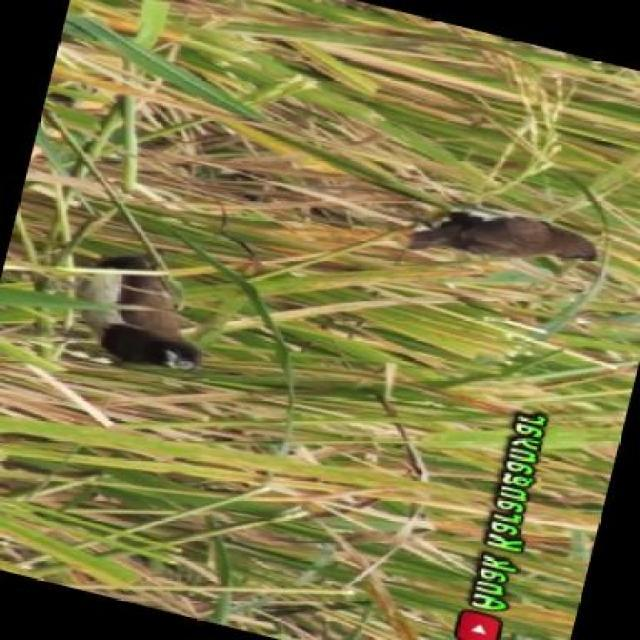Bird: (395, 188, 605, 289), (78, 246, 214, 386)
